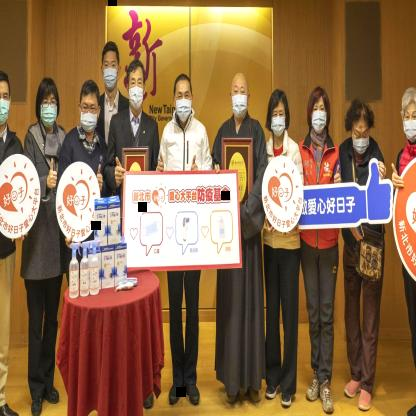mask: (344, 98, 373, 155), (35, 75, 61, 134), (77, 77, 102, 135), (171, 73, 197, 125), (306, 86, 332, 137), (124, 57, 148, 110), (267, 89, 291, 139), (100, 40, 120, 92), (229, 72, 251, 119), (399, 87, 416, 145), (0, 70, 14, 129)
